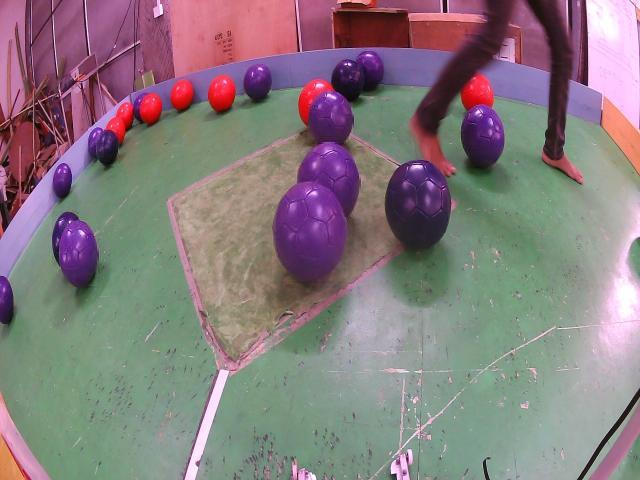jambhalya: (272, 181, 348, 281), (297, 143, 360, 217), (461, 105, 505, 166), (60, 221, 98, 286), (308, 92, 353, 143), (244, 65, 272, 101), (356, 52, 384, 88), (53, 164, 72, 198), (0, 275, 13, 323), (89, 127, 104, 158), (134, 92, 148, 123)
kaalyya: (385, 160, 451, 248), (331, 58, 365, 102), (53, 211, 79, 266), (97, 130, 119, 166)
